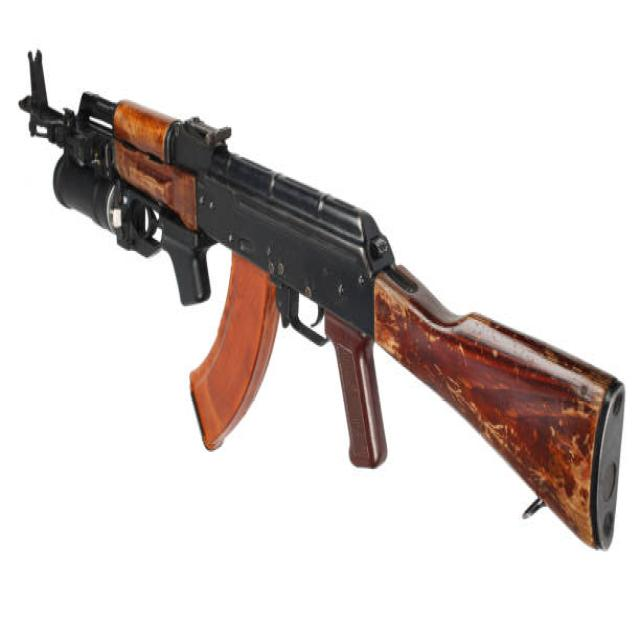rifle: (13, 33, 632, 568)
